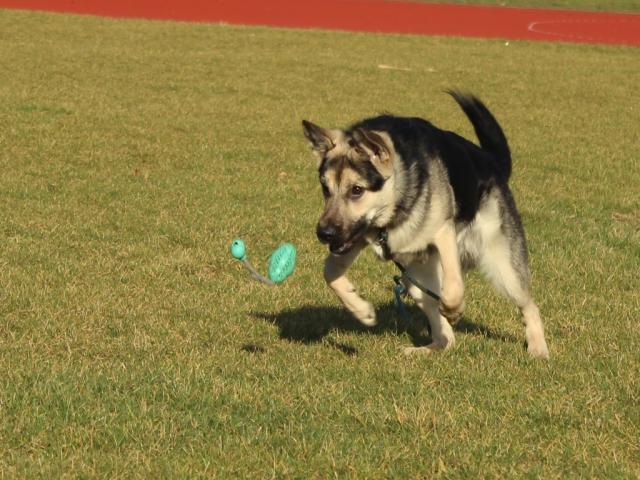Dog: (299, 84, 552, 360)
